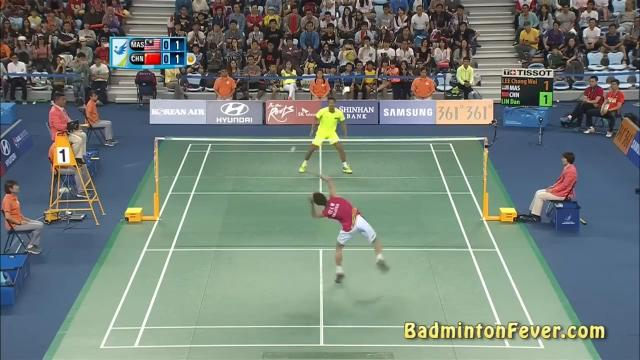Shuttlecock: (289, 145, 297, 152)
